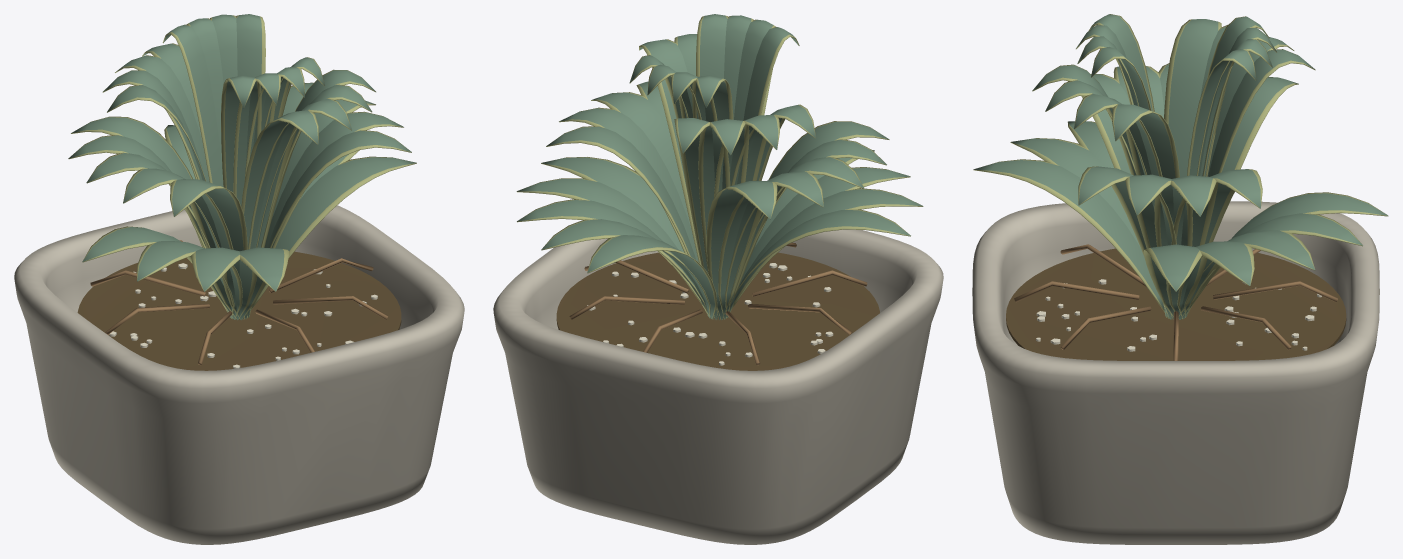
Rendered from activity-planter.glb.
3 renders of one model, left to right at view 1: azimuth 30°, elevation 25°; view 2: azimuth 150°, elevation 25°; view 3: azimuth 270°, elevation 25°, orthographic. The views are drawn at different scales.
Parts seen in each view (by area): view 1: concrete, activity-agave + activity-agave-edge, activity-soil, wood, activity-cream; view 2: concrete, activity-agave + activity-agave-edge, activity-soil, wood, activity-cream; view 3: concrete, activity-agave + activity-agave-edge, activity-soil, wood, activity-cream.
Boxes of the visible parts, x1,y1,x2,y2 form: concrete: (14,205,464,544); activity-agave + activity-agave-edge: (68,14,416,320); activity-soil: (77,251,401,370); wood: (90,240,388,365); activity-cream: (109,263,377,368); concrete: (493,229,943,544); activity-agave + activity-agave-edge: (516,14,923,320); activity-soil: (556,252,879,370); wood: (569,242,867,365); activity-cream: (587,263,833,365); concrete: (972,201,1379,544); activity-agave + activity-agave-edge: (973,14,1388,319); activity-soil: (1006,248,1346,360); wood: (1014,244,1337,360); activity-cream: (1036,279,1321,351).
Bounding box in the file's own units: 1.38 × 1.58 × 1.34.
